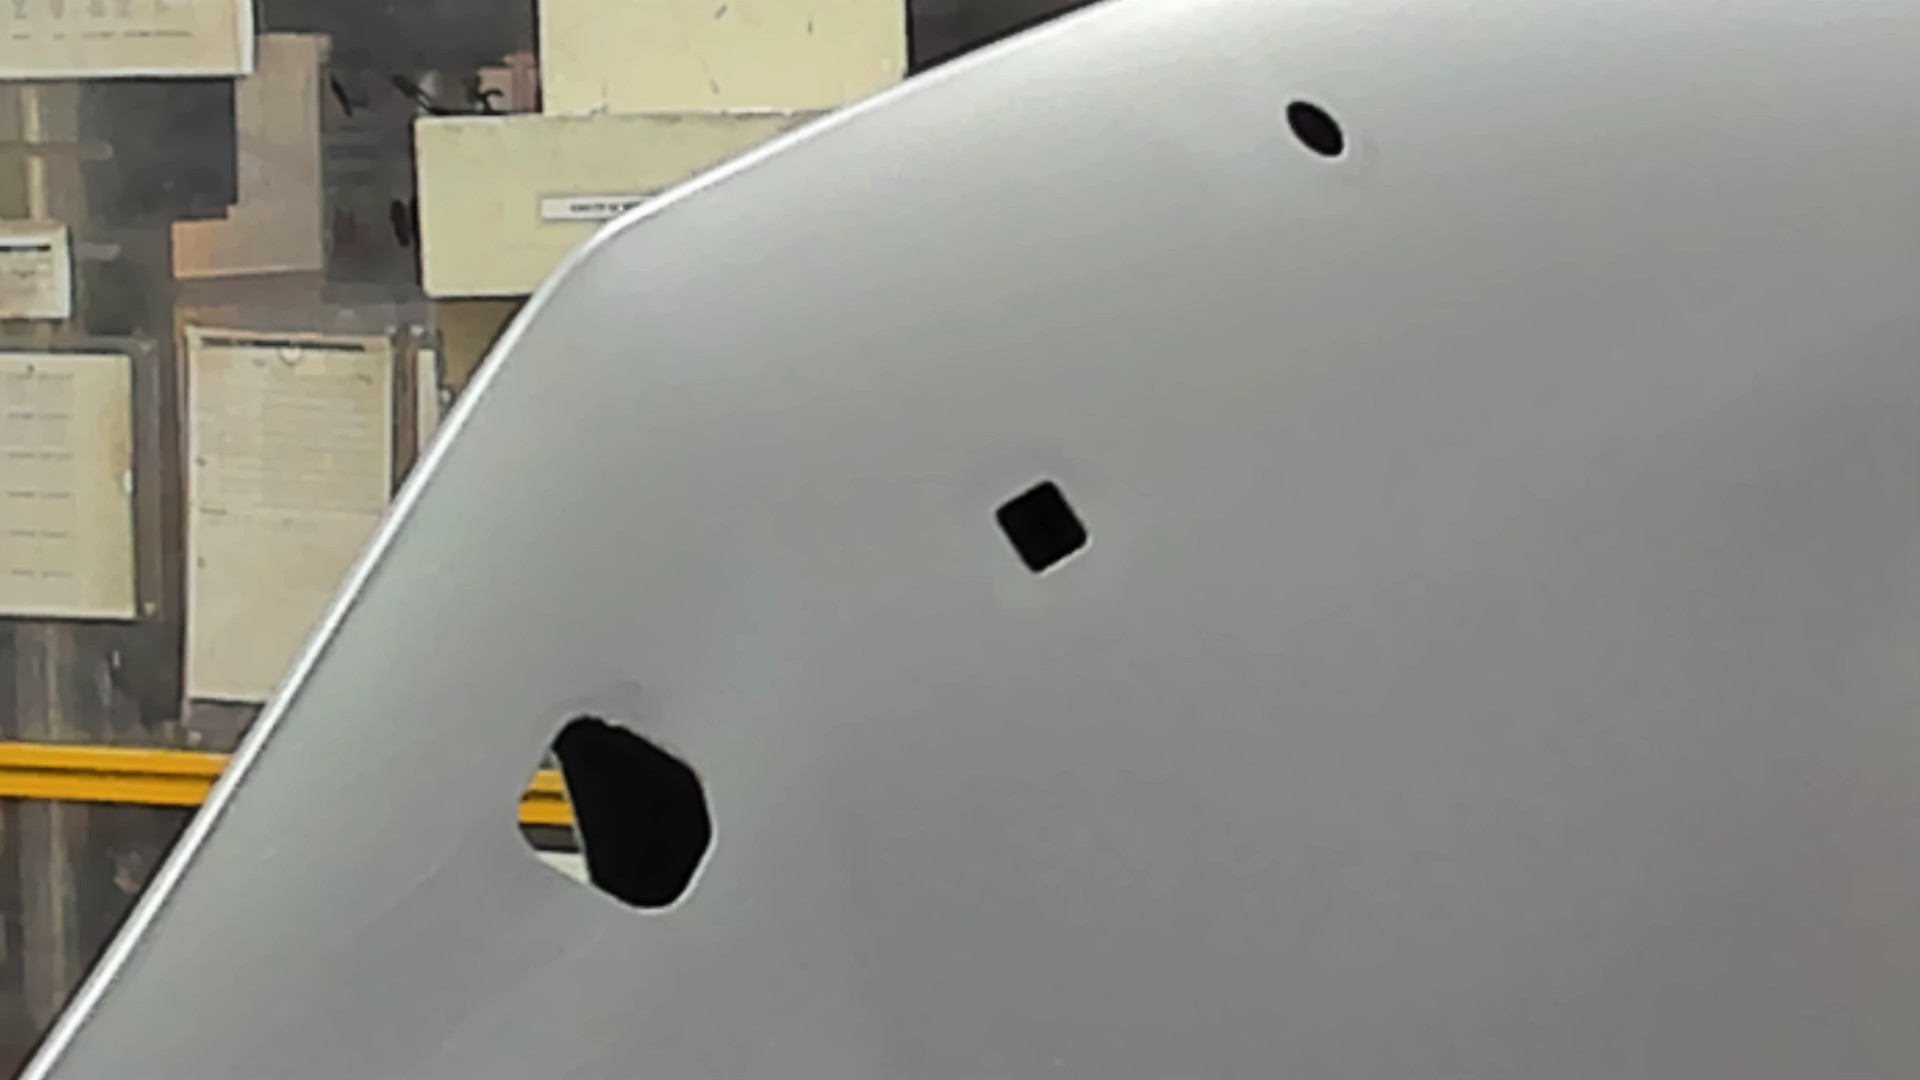chico: (1282, 96, 1349, 160)
grande: (512, 711, 720, 916)
mediano: (990, 476, 1097, 582)
